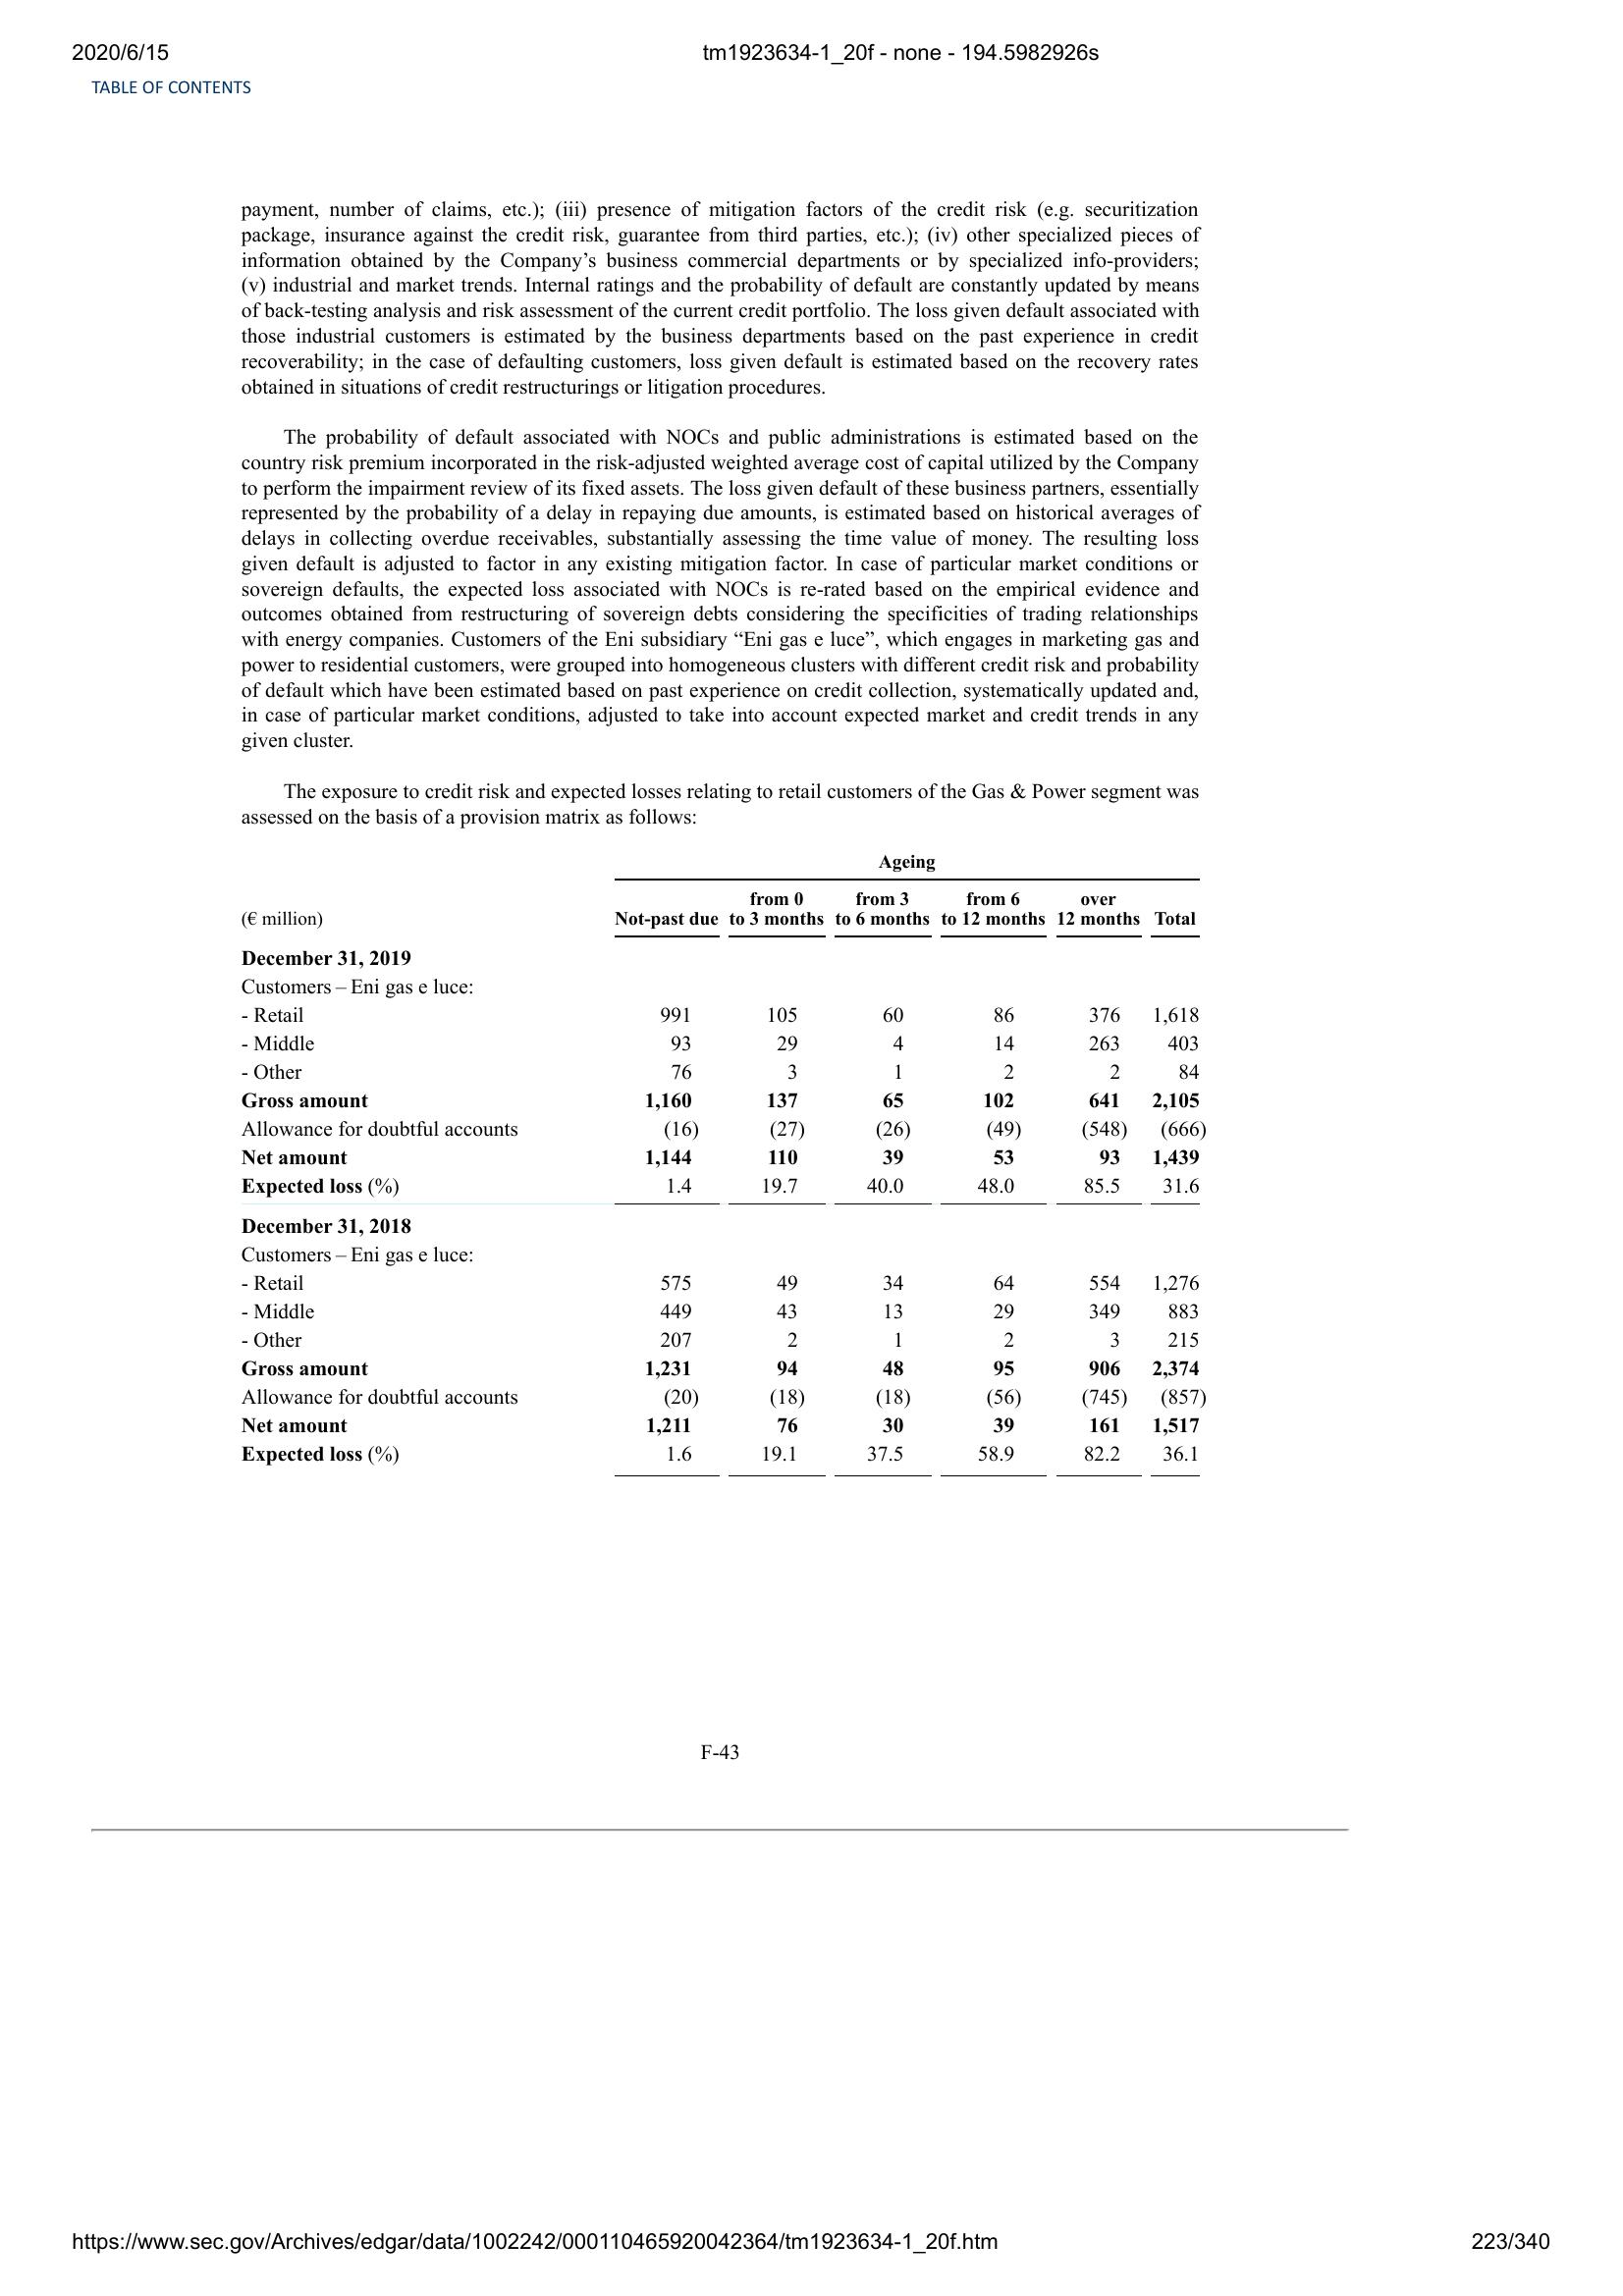table: (228, 851, 1214, 1480)
